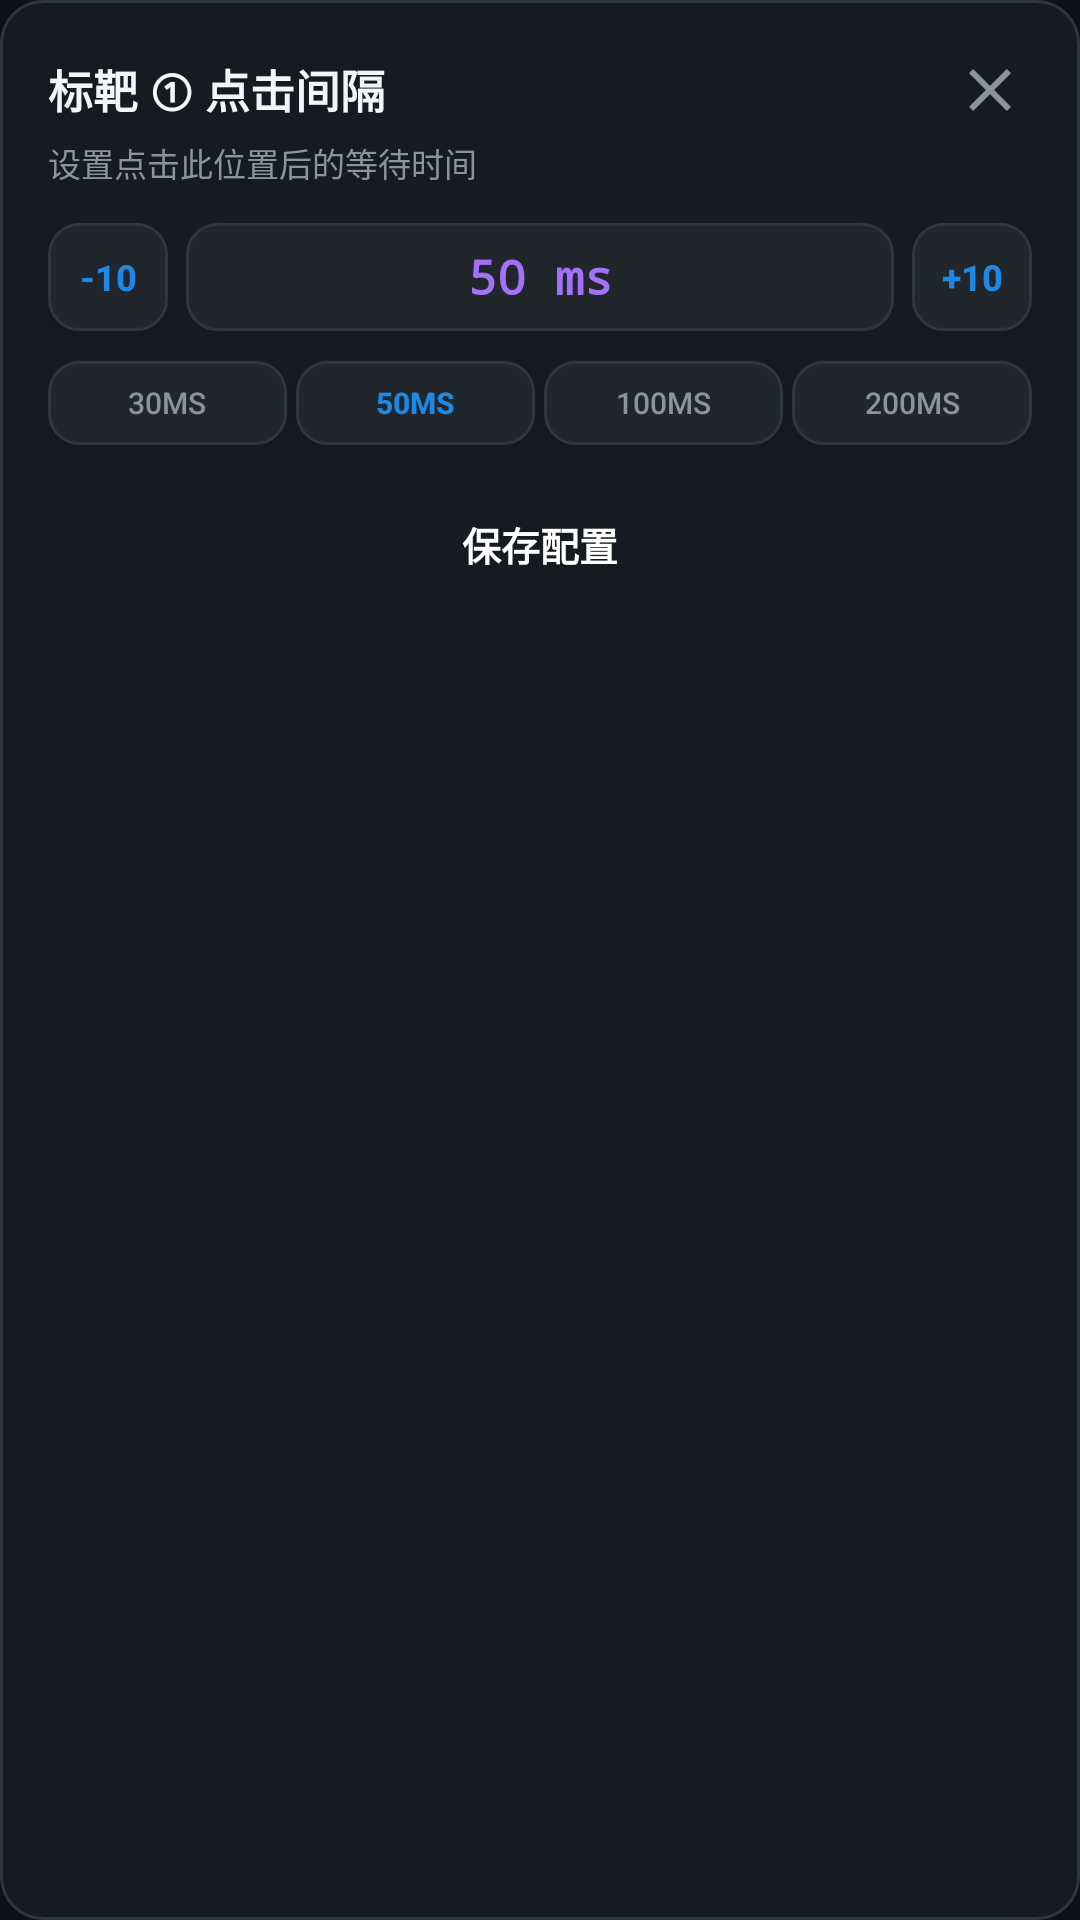

Named icons in this screenshot (1080×1920) and their centers, [x,y]:
close: [990,90]
